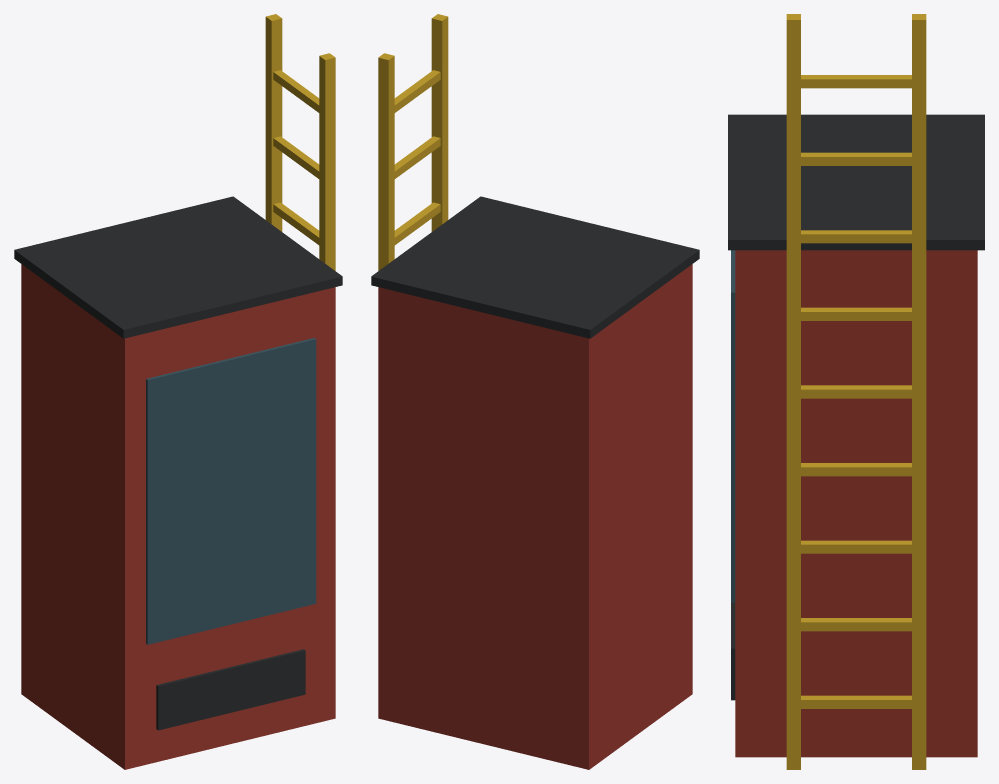
File: vending_climb.glb
3 renders of one model, left to right at view 1: azimuth 30°, elevation 25°; view 2: azimuth 150°, elevation 25°; view 3: azimuth 270°, elevation 25°, orthographic. The views are drawn at different scales.
Parts seen in each view (by area): view 1: vending_climb; view 2: vending_climb; view 3: vending_climb.
Part boxes in pixels (box(x1,y1,x2,y2)): vending_climb: box(14, 14, 342, 769); vending_climb: box(371, 14, 699, 769); vending_climb: box(728, 14, 984, 769).
Bounding box in the file's own units: 1.12 × 2.9 × 0.9.
